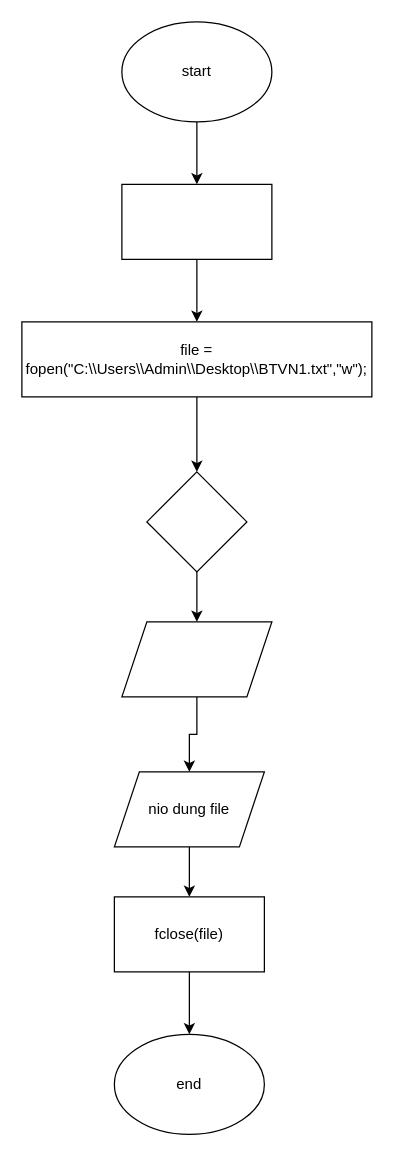
The diagram is 394 pixels wide and 1156 high, and some of its shapes have lost their labels. The shapes that lost their labels are listed below. From the top down, each one's centre as x and y in pixels, then its label:
the point at 196,221: FILE *file = NULL char arr[100]
the point at 196,521: file!=NULL?
the point at 196,659: arr
